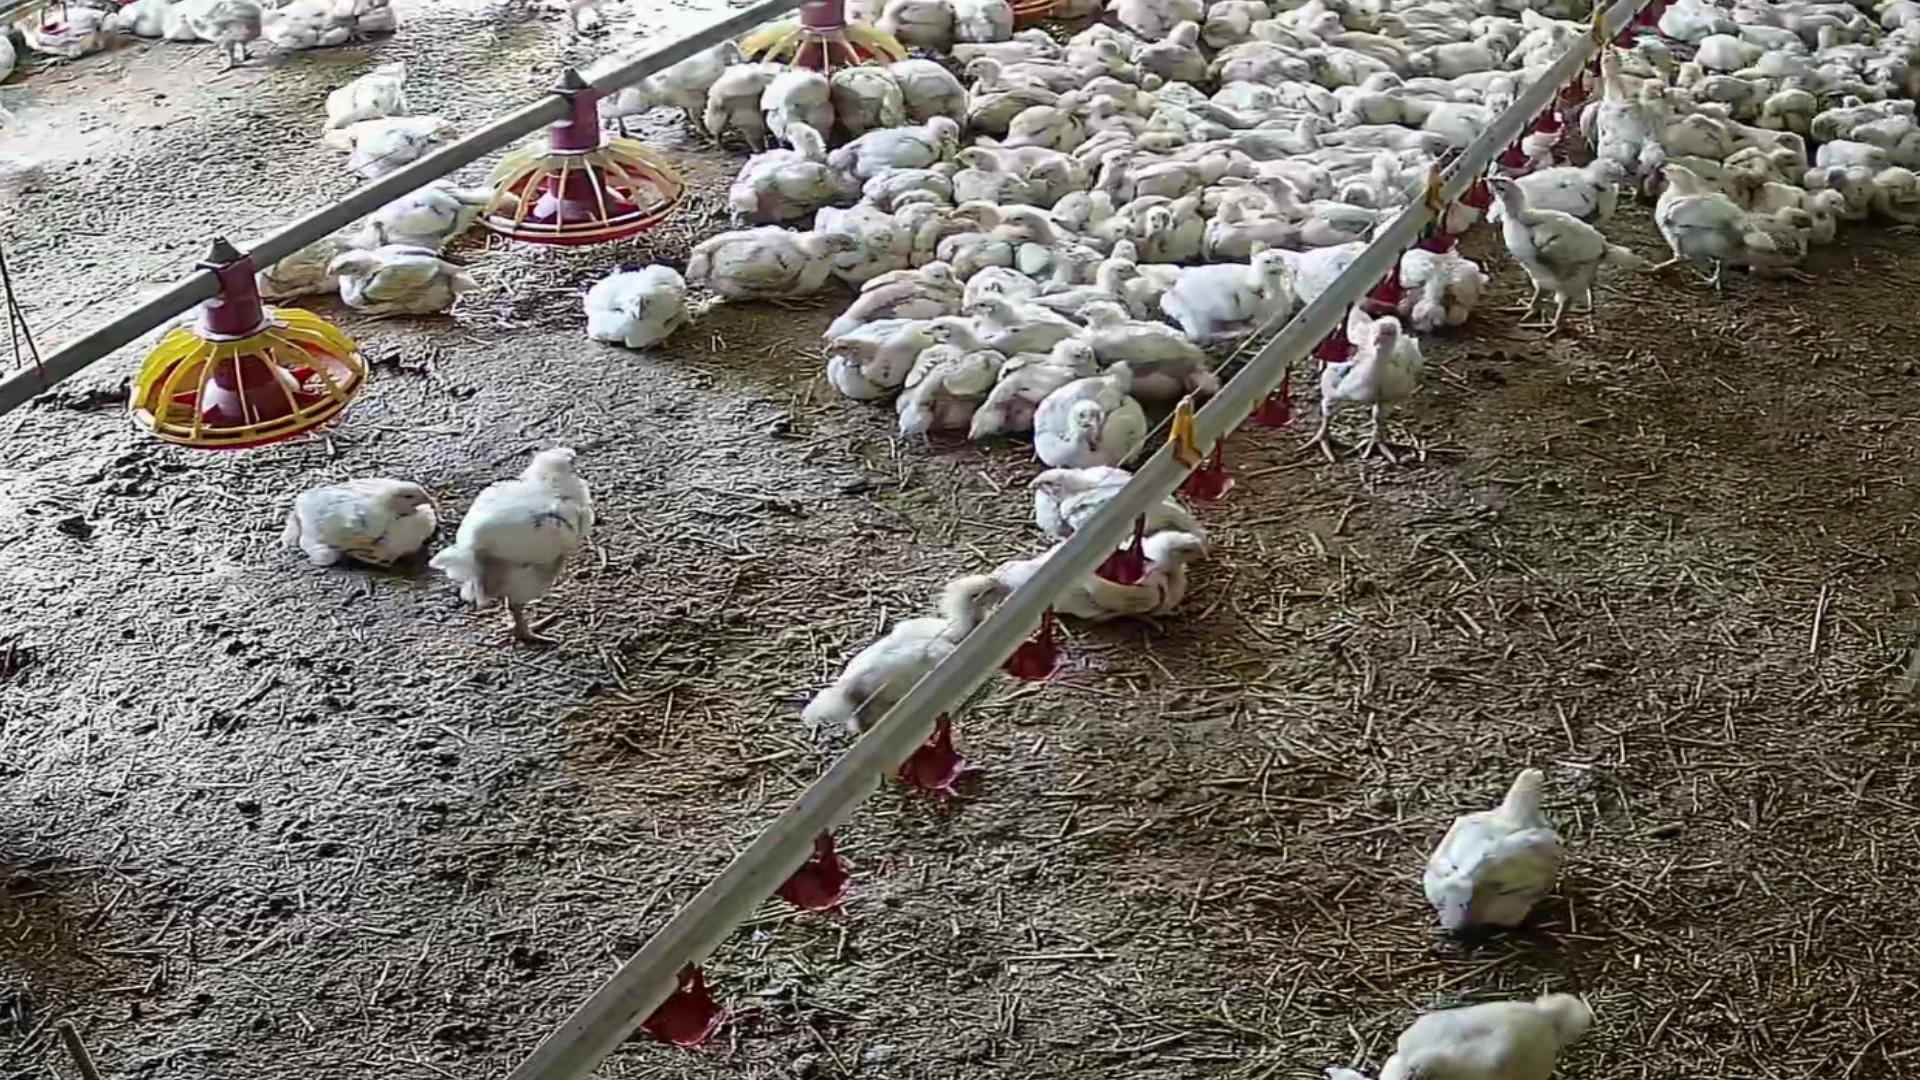poussin: (1394, 737, 1611, 947), (450, 431, 617, 638), (845, 555, 1018, 731), (1365, 953, 1604, 1080), (1469, 171, 1627, 334), (281, 458, 463, 585), (1010, 520, 1200, 626), (687, 208, 857, 313), (1654, 161, 1764, 294), (328, 237, 475, 327), (1076, 299, 1212, 396), (1331, 314, 1425, 450), (1038, 364, 1146, 472), (575, 258, 700, 349), (1175, 249, 1296, 336), (1026, 475, 1200, 535), (1254, 175, 1395, 245), (729, 133, 845, 216), (715, 55, 819, 148), (360, 177, 513, 239), (852, 260, 971, 338), (902, 338, 986, 436), (828, 191, 931, 272), (820, 313, 928, 385), (1594, 63, 1662, 178), (1518, 152, 1635, 215), (967, 289, 1075, 356), (315, 127, 456, 178), (638, 37, 735, 112), (314, 53, 422, 119), (994, 334, 1054, 452), (840, 121, 964, 178), (881, 44, 963, 125), (924, 301, 1039, 357), (1763, 170, 1842, 252), (967, 55, 1047, 129), (178, 0, 266, 65), (1217, 37, 1337, 83), (764, 59, 831, 141), (1344, 21, 1429, 83), (1427, 28, 1519, 83), (832, 62, 899, 137), (1816, 146, 1886, 215), (1046, 264, 1141, 311), (1018, 95, 1091, 156), (1063, 198, 1143, 252), (1145, 202, 1207, 269), (1142, 21, 1211, 80), (1141, 146, 1240, 187), (1374, 0, 1473, 40), (1331, 69, 1404, 121), (1327, 128, 1448, 160), (963, 146, 1029, 204), (855, 169, 964, 203), (1269, 5, 1345, 51), (947, 0, 1025, 44), (1826, 124, 1894, 173), (1238, 120, 1321, 157), (886, 0, 952, 44), (1096, 92, 1151, 141), (1068, 37, 1134, 78), (953, 193, 1004, 232), (1027, 157, 1073, 195), (1193, 100, 1247, 132), (1755, 141, 1804, 173), (1010, 207, 1054, 241), (1109, 145, 1138, 190), (1770, 121, 1815, 149)
